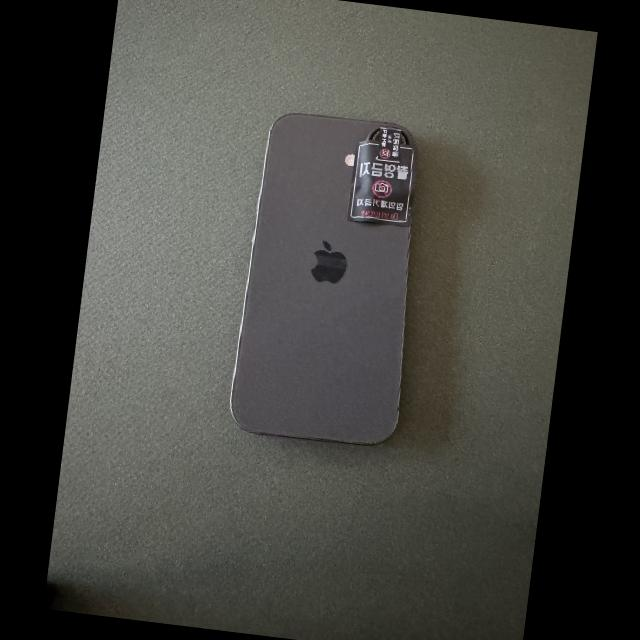phone: (230, 113, 416, 444)
sticker: (346, 139, 418, 227), (376, 123, 401, 164)
